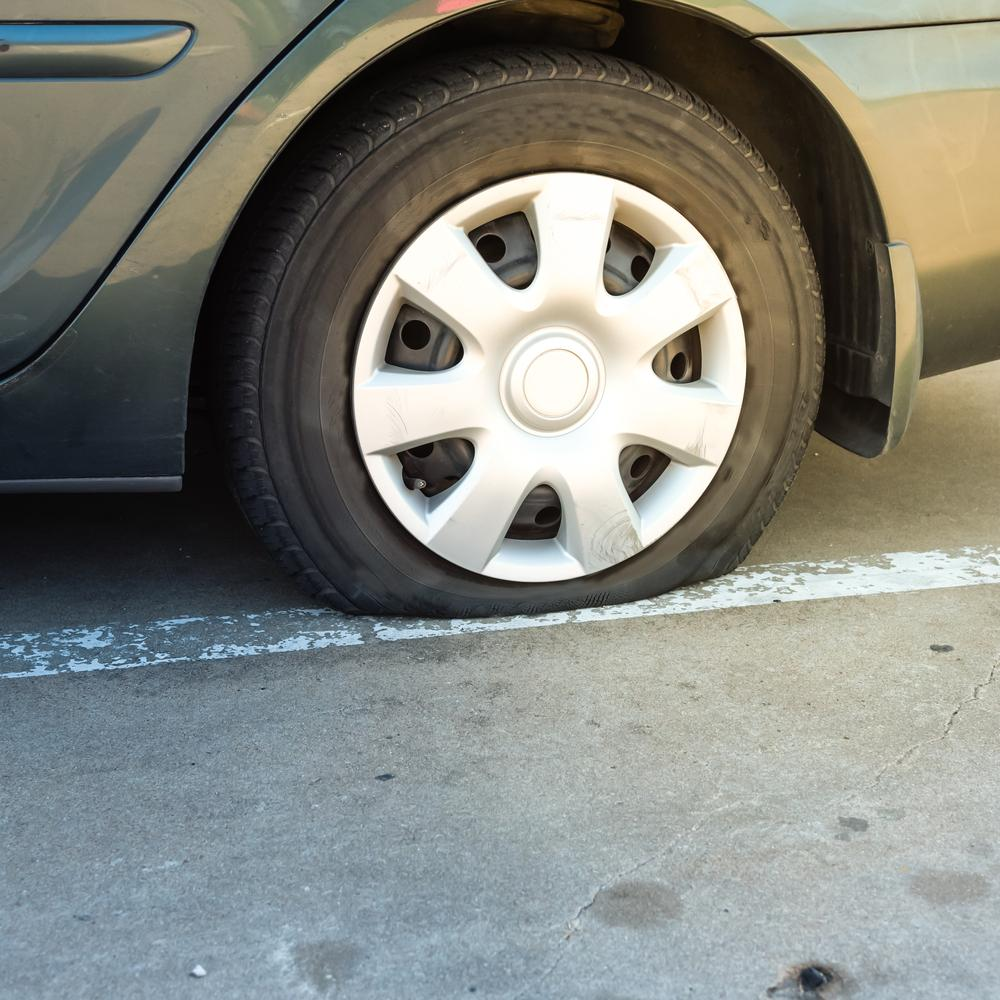tire flat: (239, 51, 826, 618)
